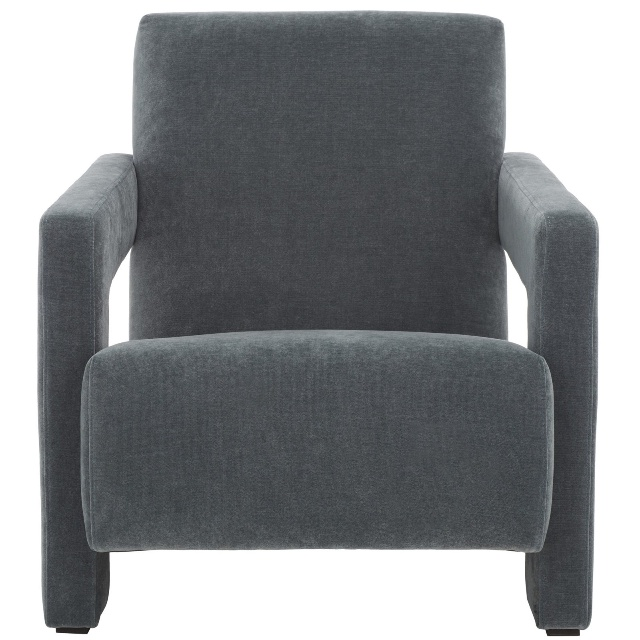obstacle: (38, 12, 598, 634)
